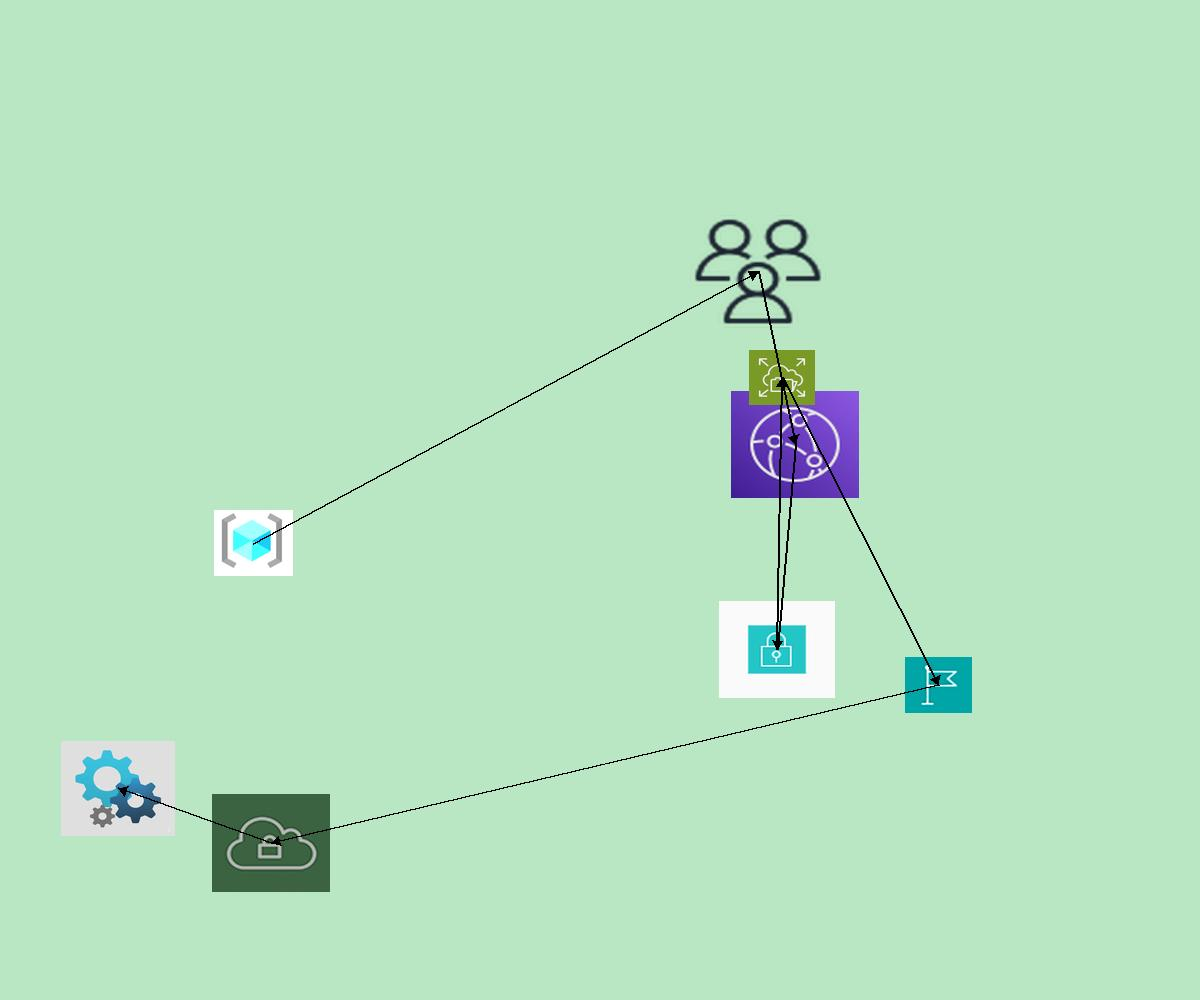AWS-CloudFront: (731, 391, 859, 498)
AWS-EFS: (749, 350, 815, 405)
AWS-Private-subnet: (719, 601, 835, 698)
AWS-Private_vpc: (212, 794, 330, 892)
AWS-Region: (905, 657, 972, 713)
AWS-Res_Users: (690, 215, 826, 328)
Azure_api: (61, 741, 175, 836)
Azure_resource_group: (214, 510, 293, 576)
